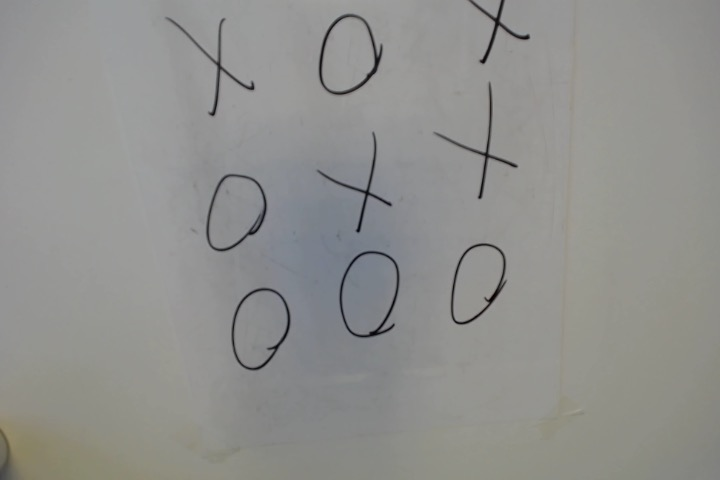0: (308, 10, 389, 100), (442, 234, 509, 333), (226, 280, 293, 374), (335, 251, 398, 341), (198, 170, 268, 250)
x: (311, 124, 407, 236), (165, 12, 262, 117), (432, 85, 521, 199)
